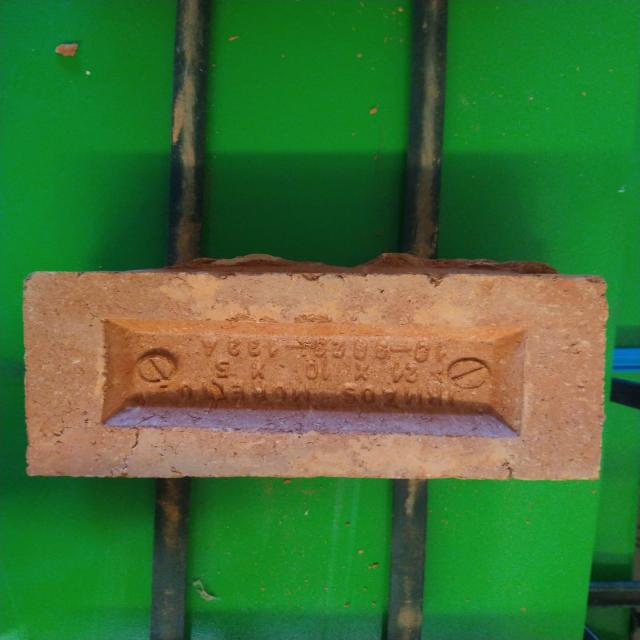bricks_ruin: (24, 253, 609, 479)
